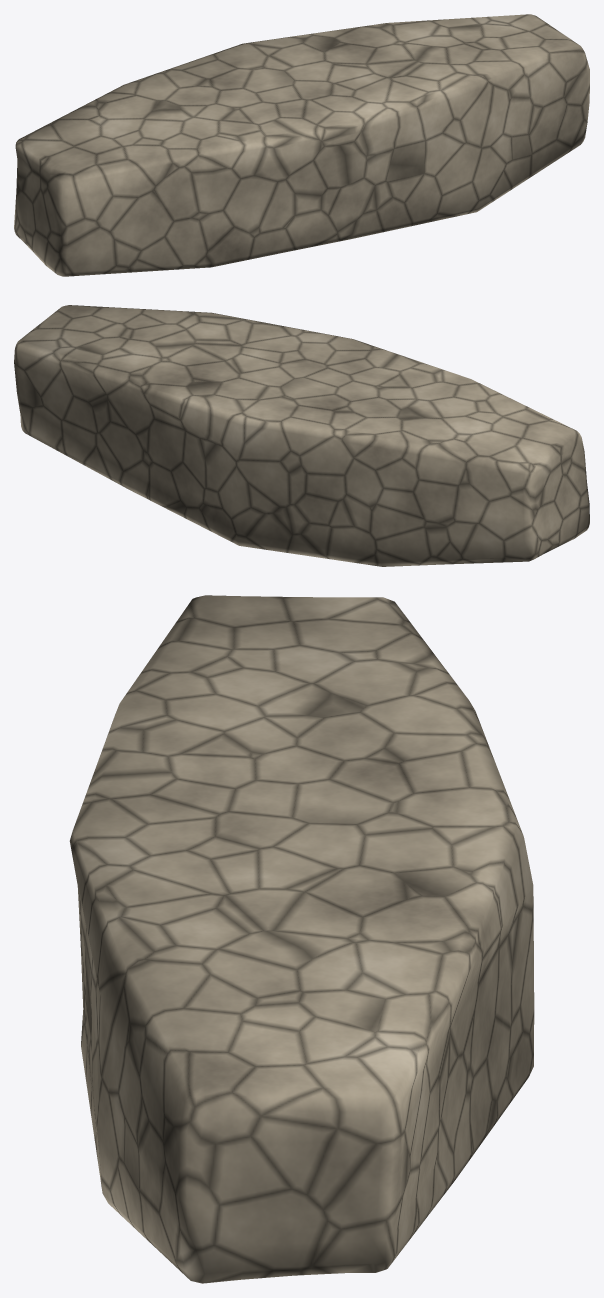
Rendered from Plat_Roca.fbx.
3 renders of one model, top to bottom at view 1: azimuth 30°, elevation 25°; view 2: azimuth 150°, elevation 25°; view 3: azimuth 270°, elevation 25°, orthographic. The views are drawn at different scales.
Visible parts, largest first — view 1: Plat_Roca; view 2: Plat_Roca; view 3: Plat_Roca.
Part boxes in pixels (<box>): Plat_Roca: <box>14,14,589,276</box>; Plat_Roca: <box>14,305,589,566</box>; Plat_Roca: <box>69,595,534,1283</box>.
Size of the model in its own units: 135 by 32.51 by 51.15.
Materials: 1 (1 with a texture image).
